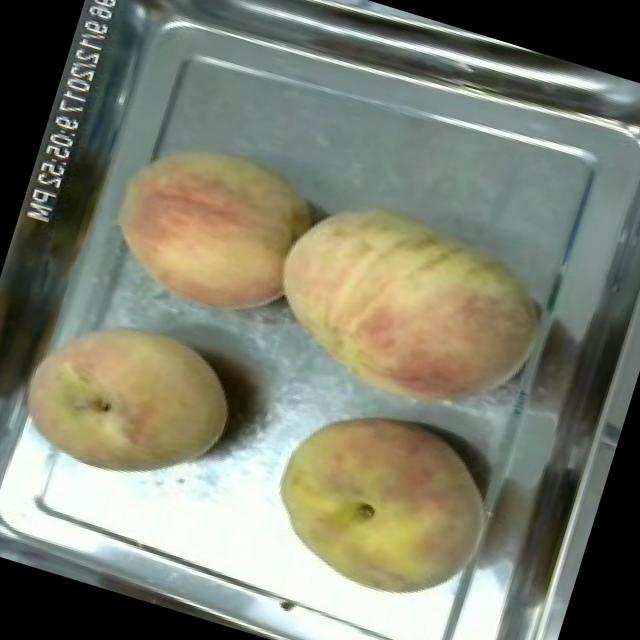Fruit: (244, 172, 566, 444), (245, 379, 516, 626), (0, 287, 256, 515), (83, 113, 333, 342)
